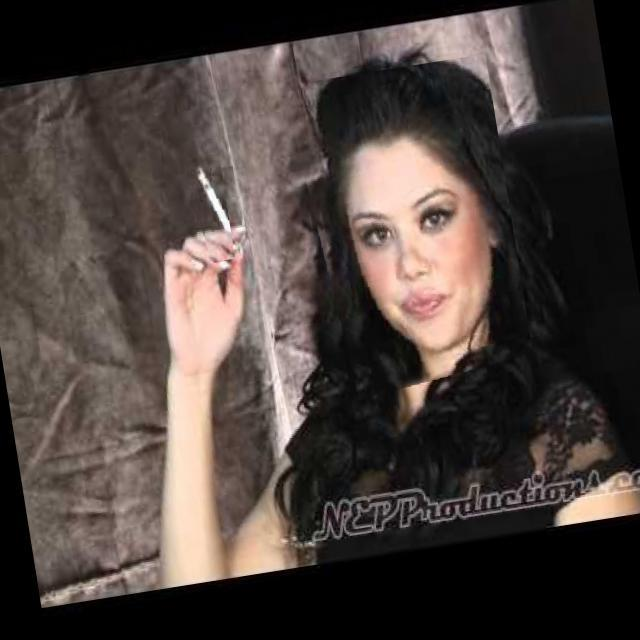cigarette: (181, 137, 236, 265)
